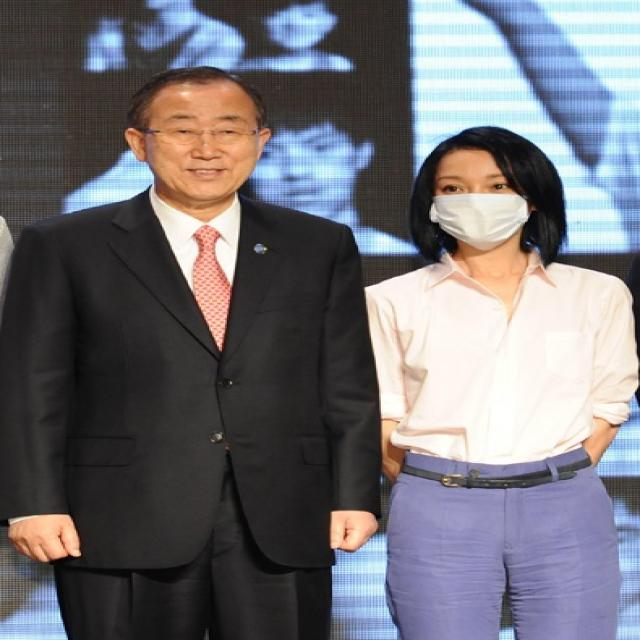mask: (150, 83, 252, 198), (432, 146, 530, 248)
